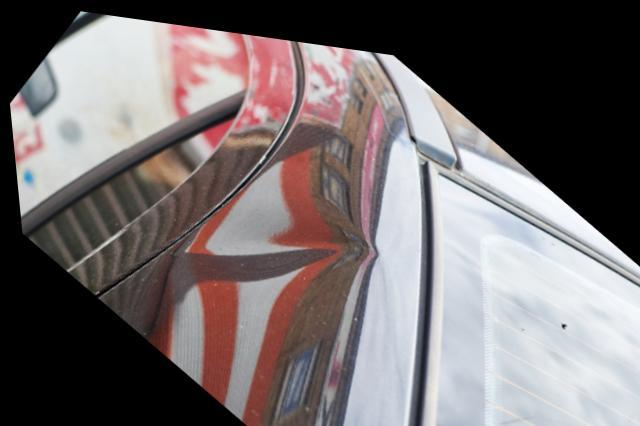dent: (167, 213, 372, 298)
